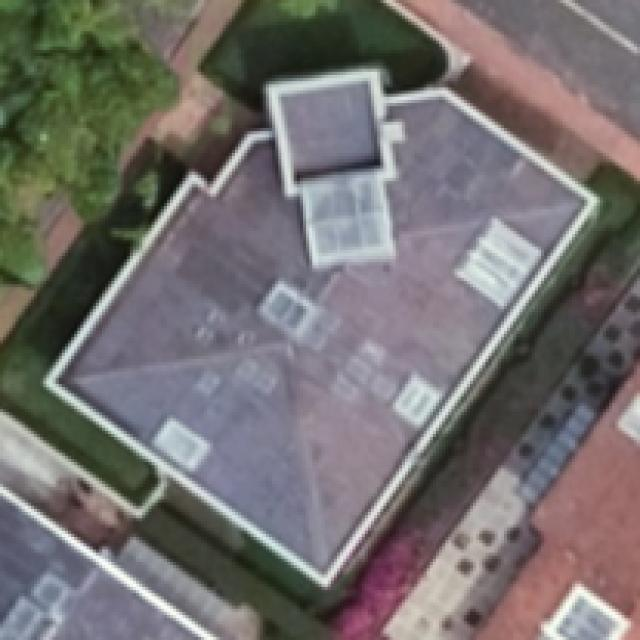Batiment: (45, 68, 599, 605)
